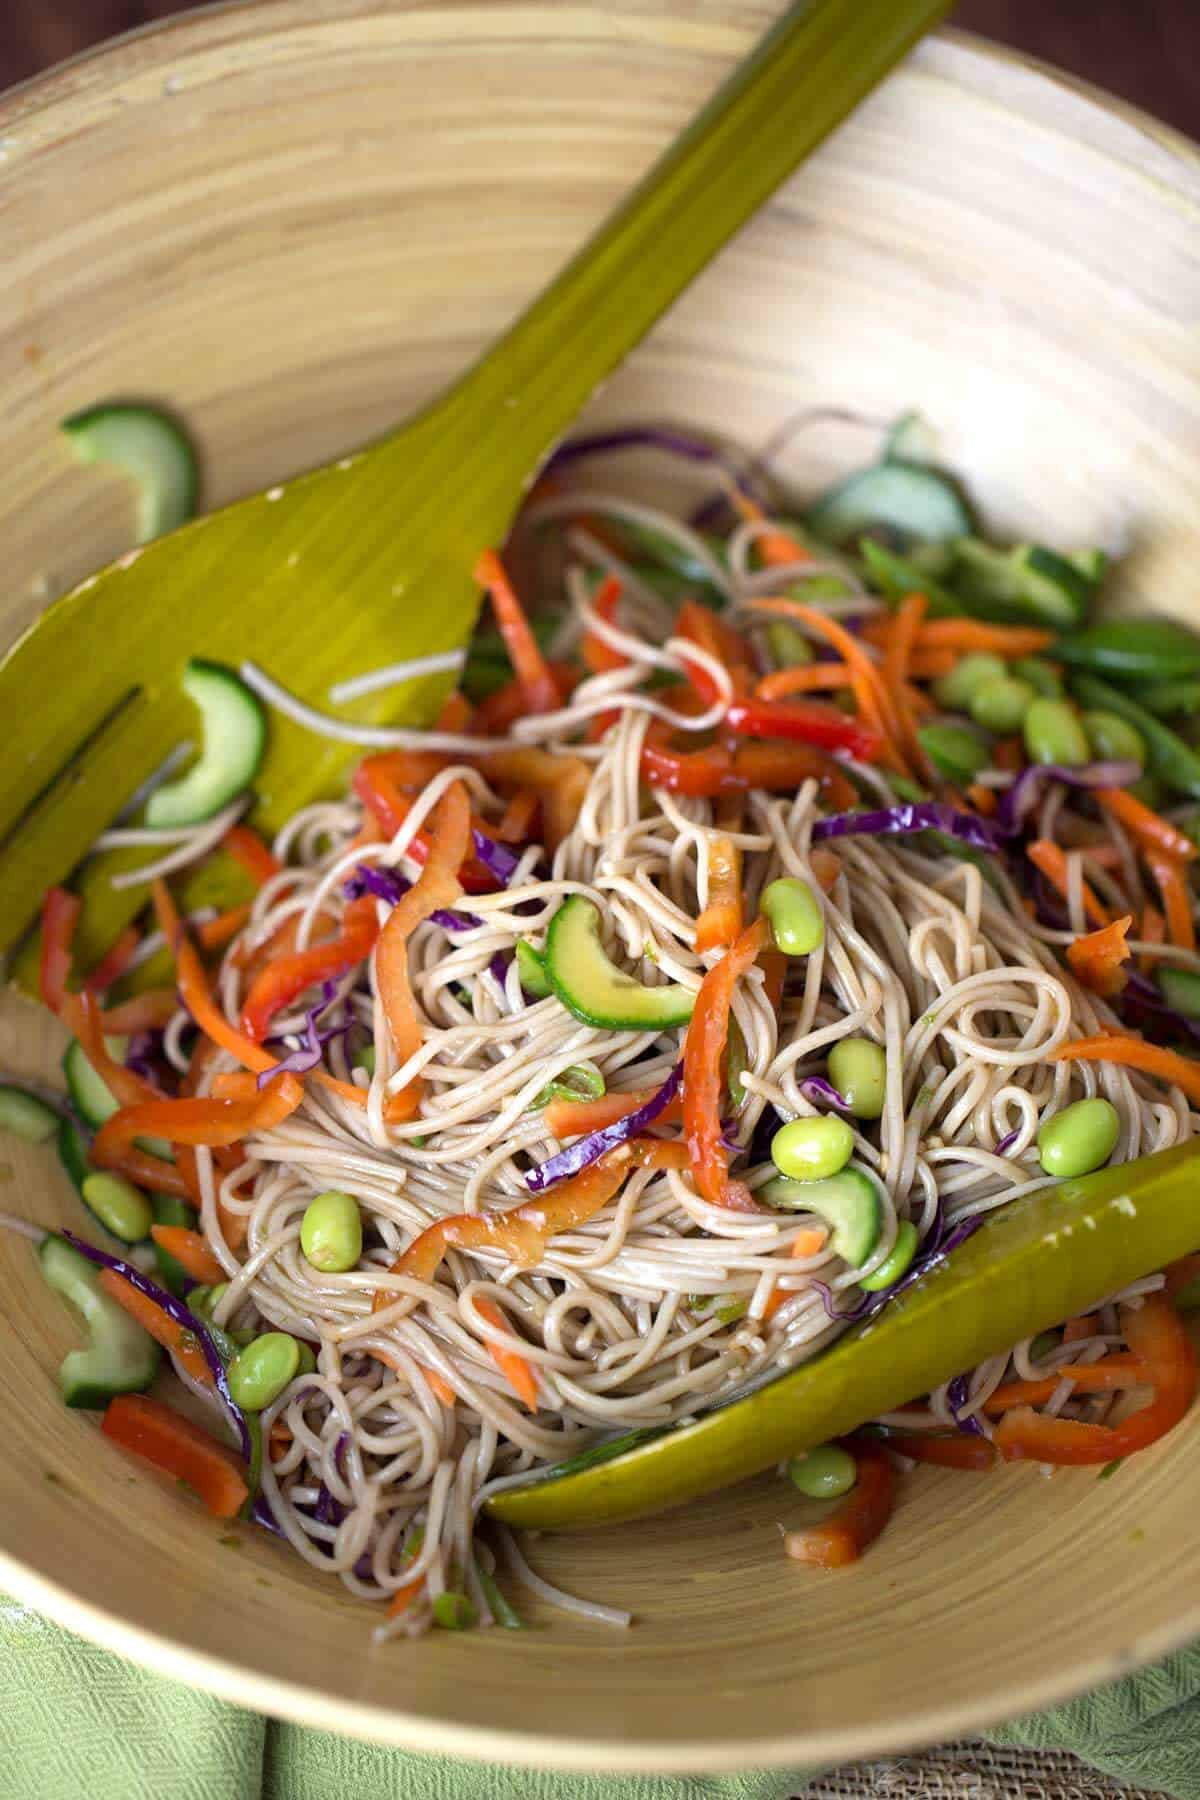Soba: (131, 663, 1176, 1633)
